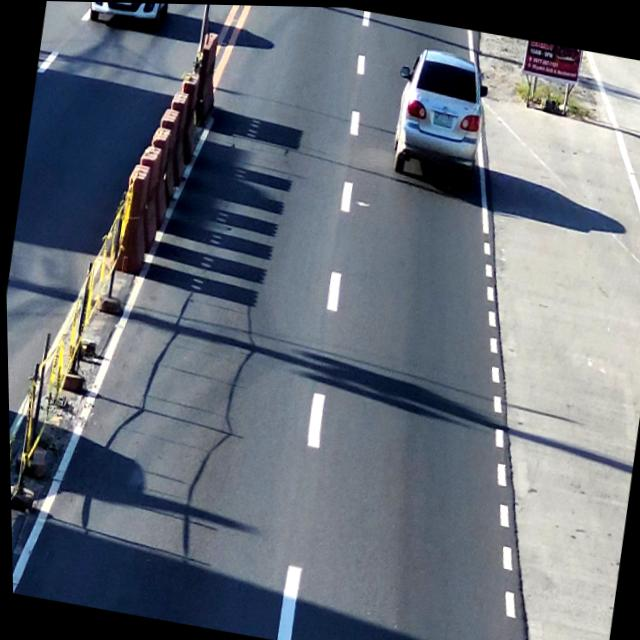Car: (384, 44, 499, 198)
License-Plate: (430, 109, 457, 132)
